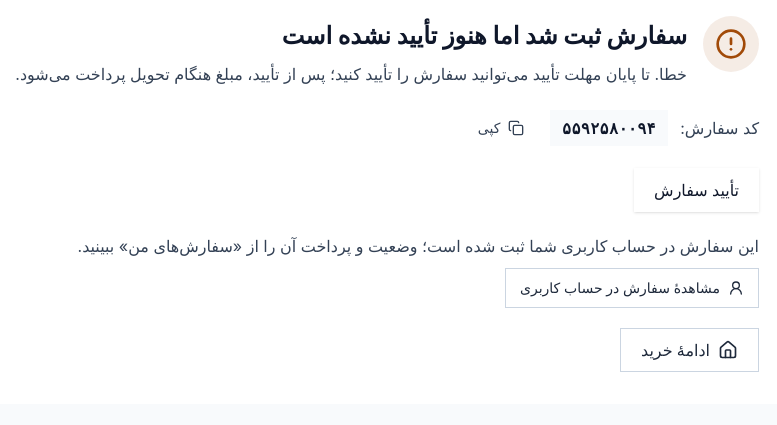
Test: the thanks page’s confirmation and the account’s lists › signed in, refused (the bank did not answer): nothing changed, nothing marked
Click the button "تأیید سفارش": x=697, y=190 top-left (634, 168), bottom-right (759, 212)
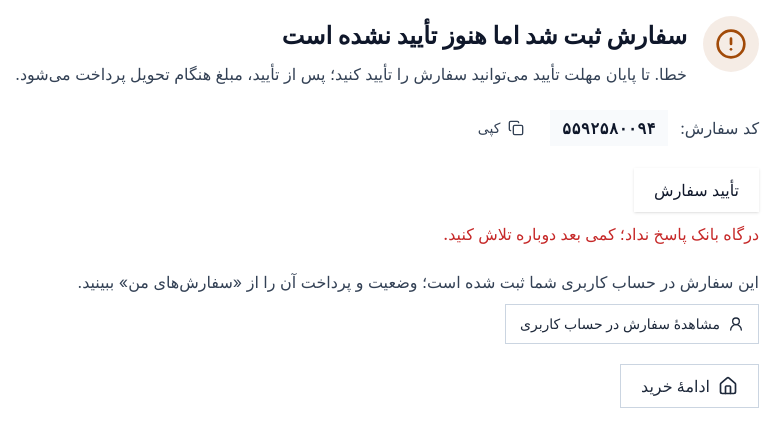
Result: the message shows "درگاه بانک پاسخ نداد" at top-left (443, 224), bottom-right (759, 244)
